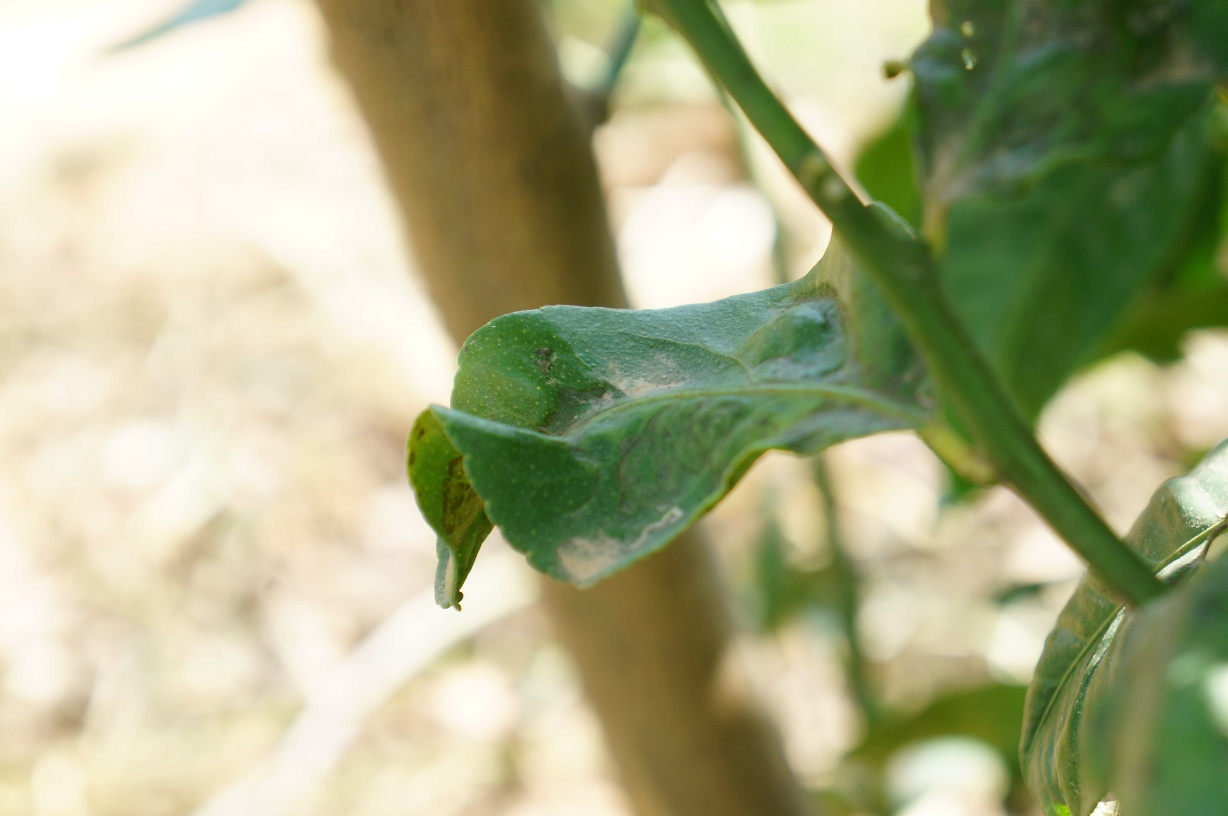damage: (404, 267, 929, 619)
